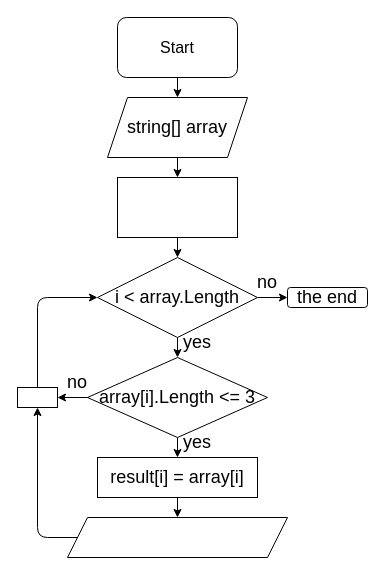
This 385x575 diagram has some shape labels left out. The shapes that lost their labels are listed below. From the top down, each one's box as (x1, y1, x2, y2) in pixels, then its label:
(116, 176, 238, 238): string[] result i = 0
(16, 386, 58, 408): i++
(66, 516, 288, 558): Console.Write(result[i])
